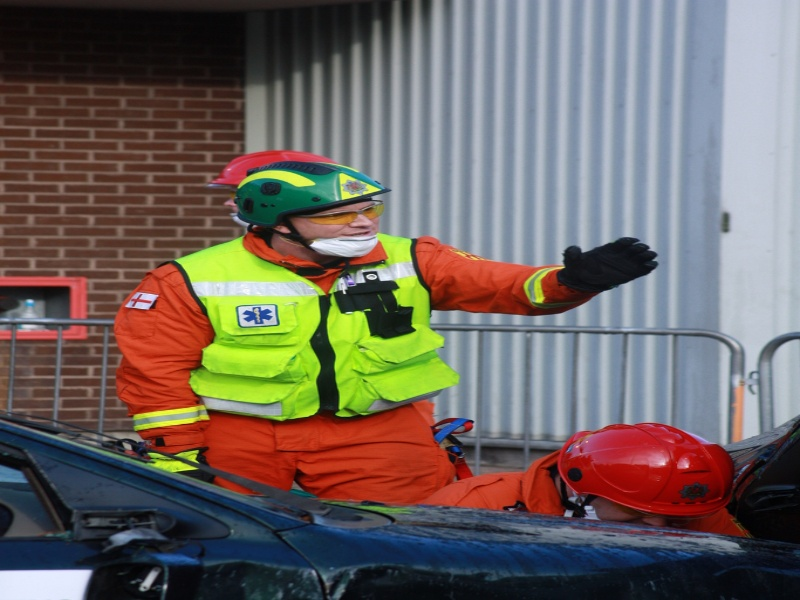helmet: (561, 424, 725, 523), (236, 163, 390, 226)
jacket: (179, 237, 443, 417)
